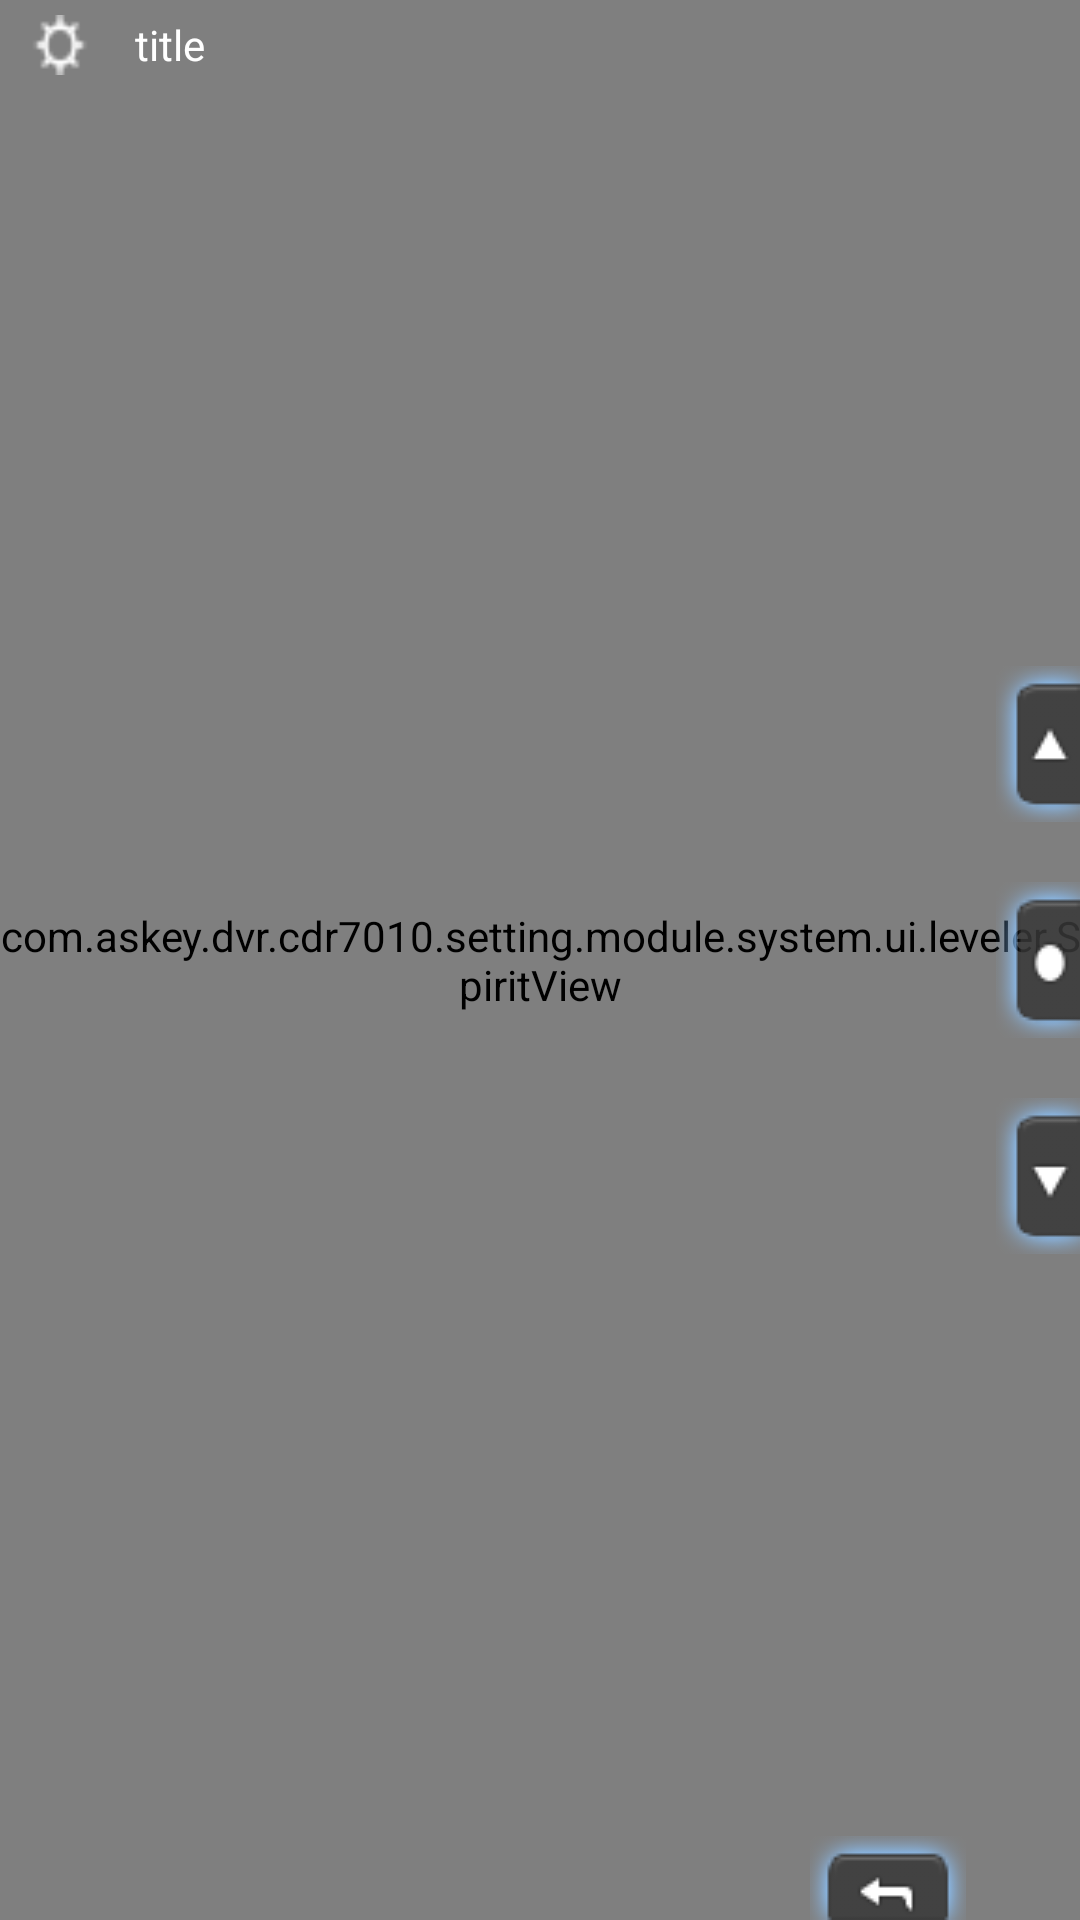

Named icons in this screenshot (1080*1920) and their centers, (x,y):
sub setting: (60,45)
tag menu main back: (888,1880)
tag menu main enter: (1041,960)
tag menu main movedown: (1041,1176)
tag menu main moveup: (1041,744)
